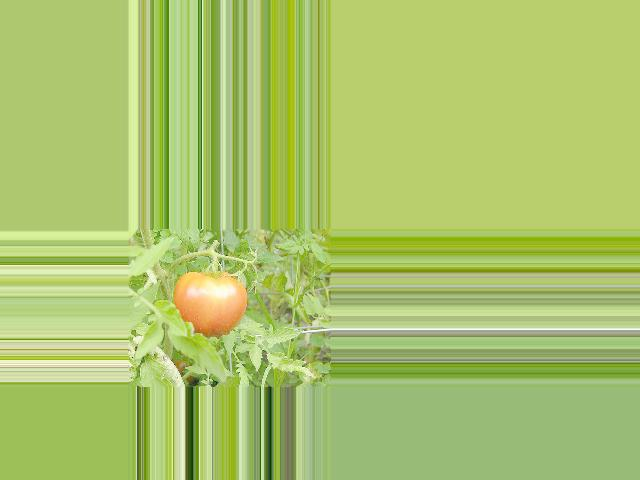tomato: (174, 270, 246, 335)
